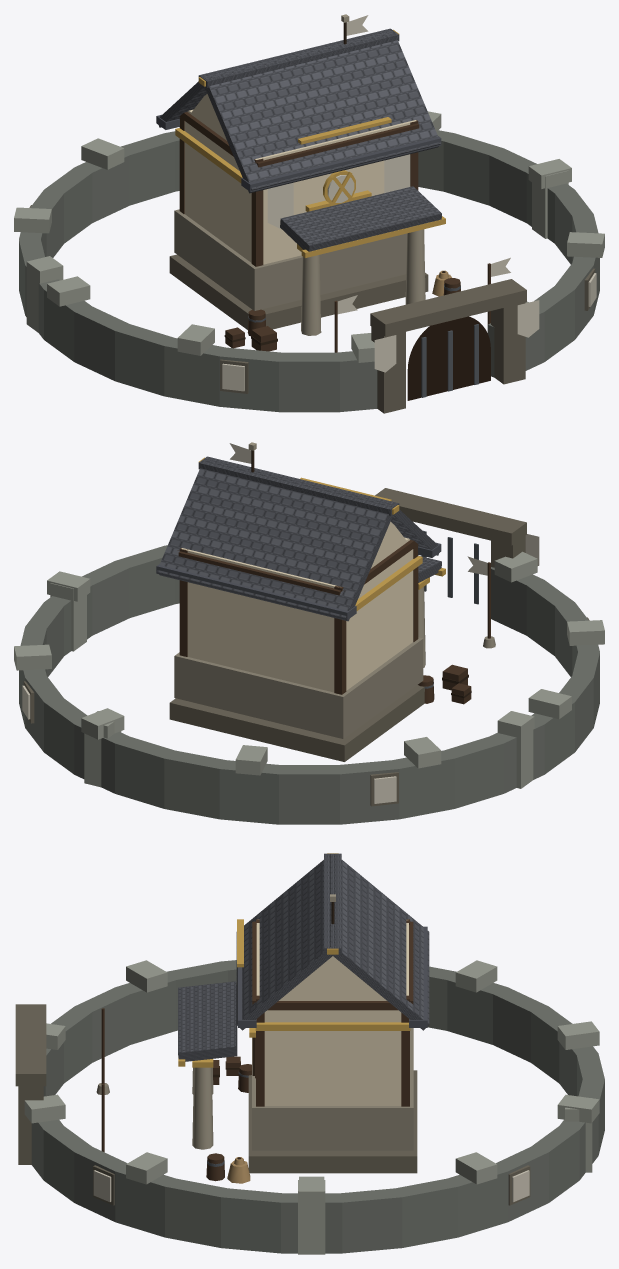
Rendered from town-elite-L2.glb.
3 renders of one model, top to bottom at view 1: azimuth 30°, elevation 25°; view 2: azimuth 150°, elevation 25°; view 3: azimuth 270°, elevation 25°, orthographic.
Parts seen in each view (by area): view 1: building-elite-L2, object 8, object 9, object 10, object 12, object 11, object 13, object 2, object 7; view 2: building-elite-L2, object 8, object 9, object 10, object 11, object 2, object 13; view 3: building-elite-L2, object 8, object 9, object 10, object 2, object 11.
Part boxes in pixels (x1,y1,x2,y2): building-elite-L2: (156,14,460,351); object 8: (19,130,599,412); object 9: (14,111,604,362); object 10: (29,205,595,413); object 12: (407,316,490,400); object 11: (222,273,596,391); object 13: (421,324,478,397); object 2: (225,263,490,352); object 7: (337,257,510,314); building-elite-L2: (156,442,468,761); object 8: (19,545,599,824); object 9: (14,551,604,788); object 10: (23,488,589,806); object 11: (22,534,539,803); object 2: (418,562,490,704); object 13: (421,530,478,604); building-elite-L2: (178,853,429,1181); object 8: (31,960,604,1253); object 9: (24,960,599,1254); object 10: (15,1004,530,1205); object 2: (101,1008,251,1152); object 11: (93,1170,529,1202).
Size of the model in its own units: 7.02 by 3.34 by 6.95.
Materials: 15 (1 with a texture image).
